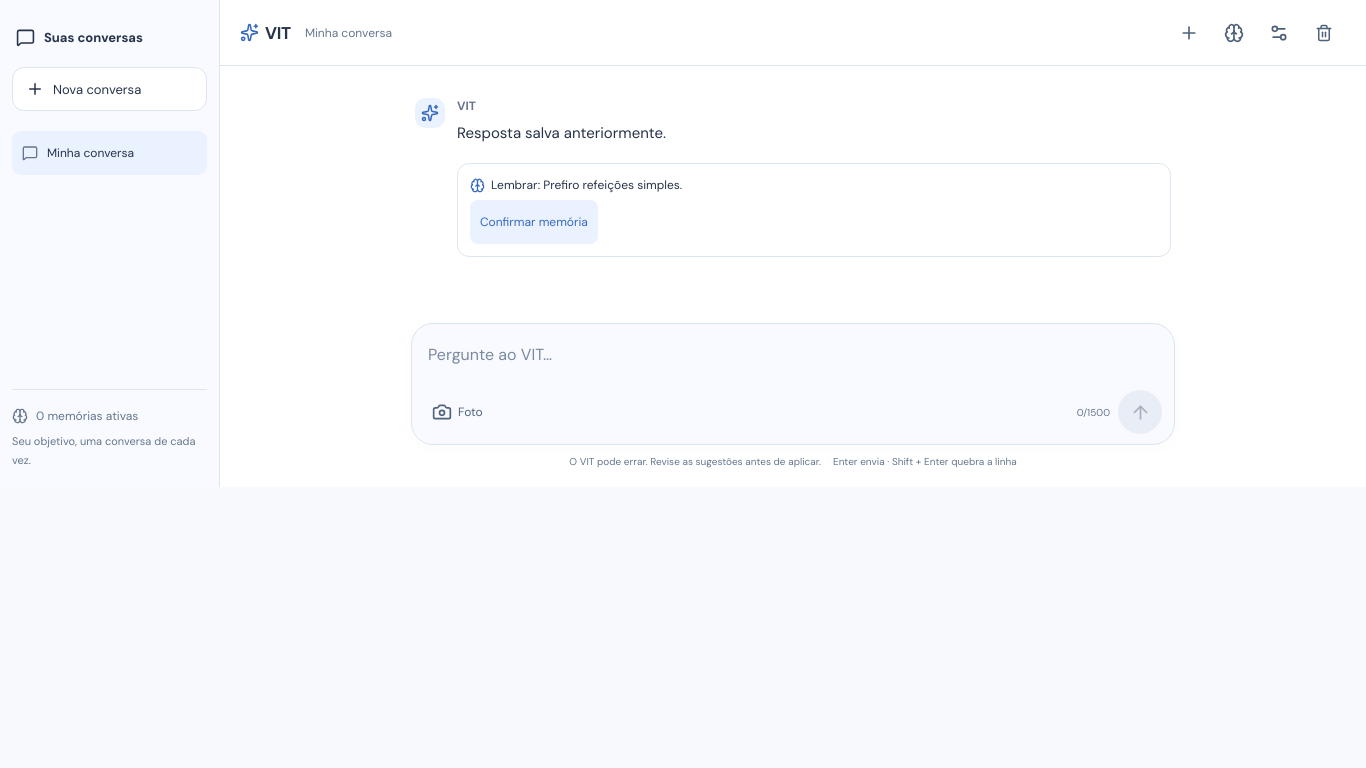
Test: falha ao salvar memória aparece dentro do painel aberto e mantém o texto para repetir
Expected: the text "Resposta salva anteriormente." is shown, [457,123,666,143]
Click the button named "Gerenciar memórias". click: x=1234, y=32
box: [1212,10,1256,54]
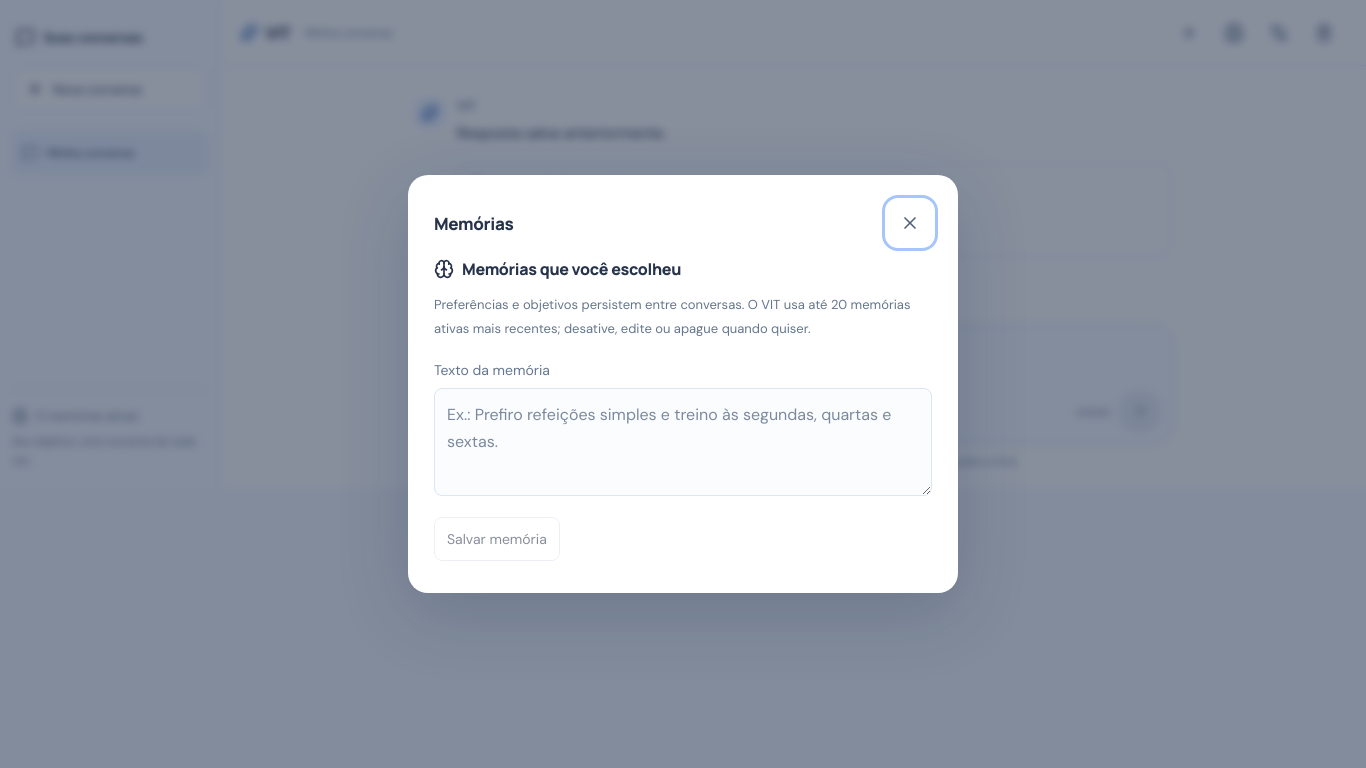
Replace the text in the text box labelled "Texto da memória" with "Prefiro refeições simples.". click: x=683, y=442
box: [434,388,932,496]
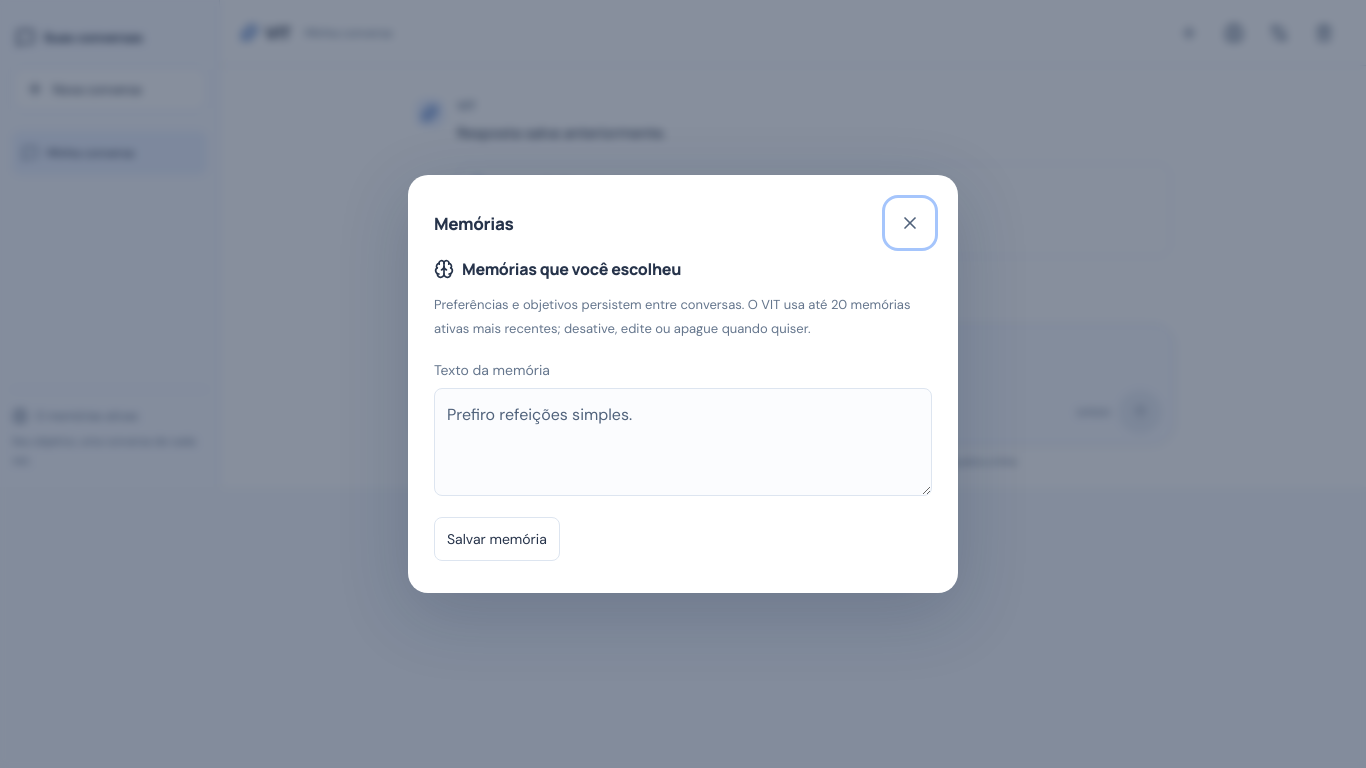
Click the button "Salvar memória". click: x=497, y=539
box: [434,517,560,561]
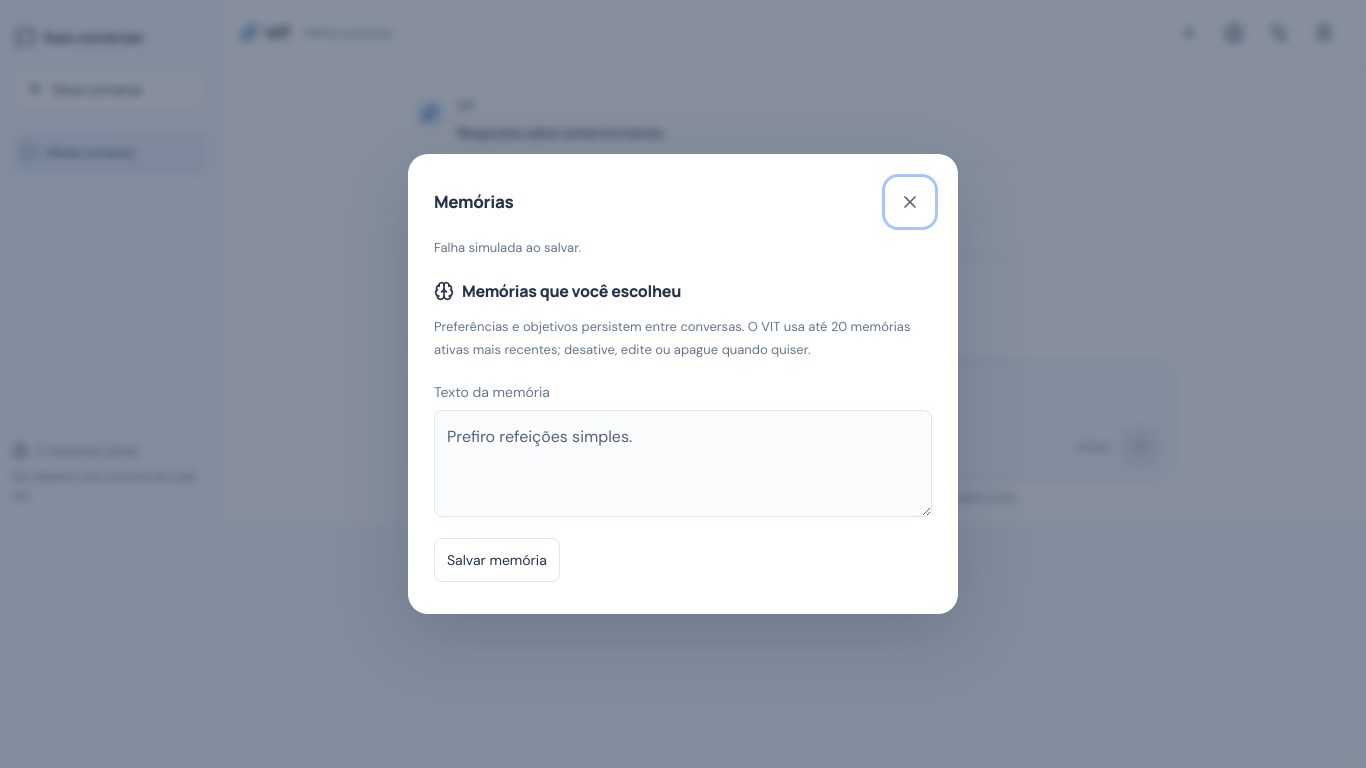
Now the message reads "Falha simulada ao salvar.", box [434,239,581,256]
